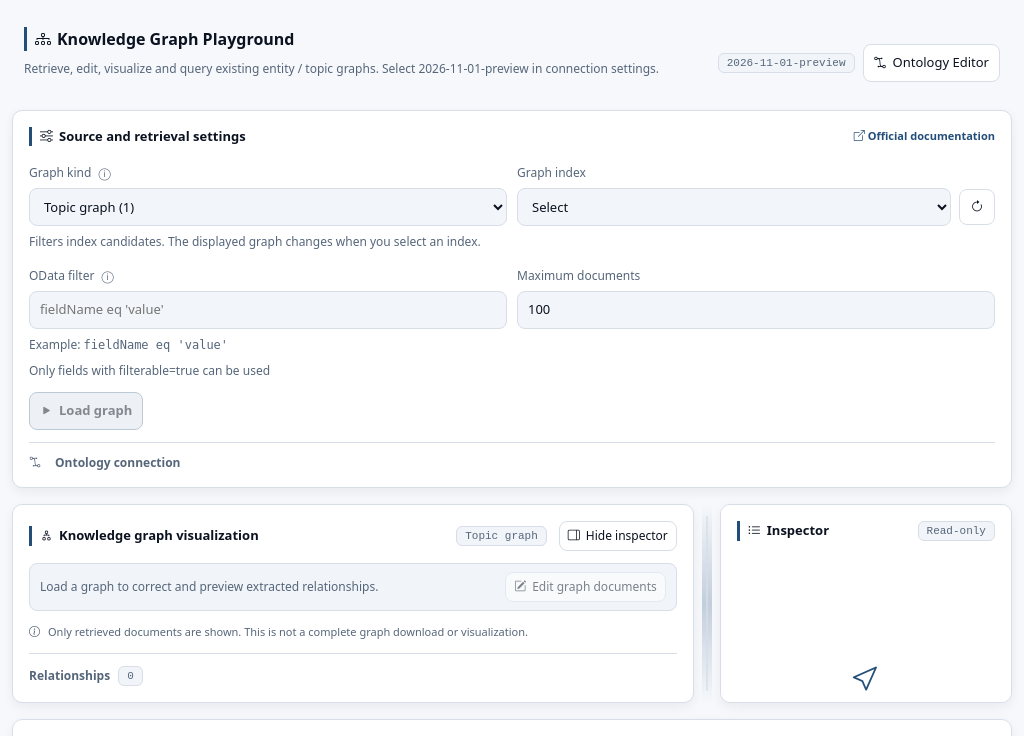
Scenario: KnowledgeGraphPlayground controls › shows retrieved topic titles immediately, allows a custom title predicate and excludes relationship rows
Select "graph-a" in the dropdown named "Graph index" at {"x": 734, "y": 207}, box [517,188,951,226]
(page scrolled)
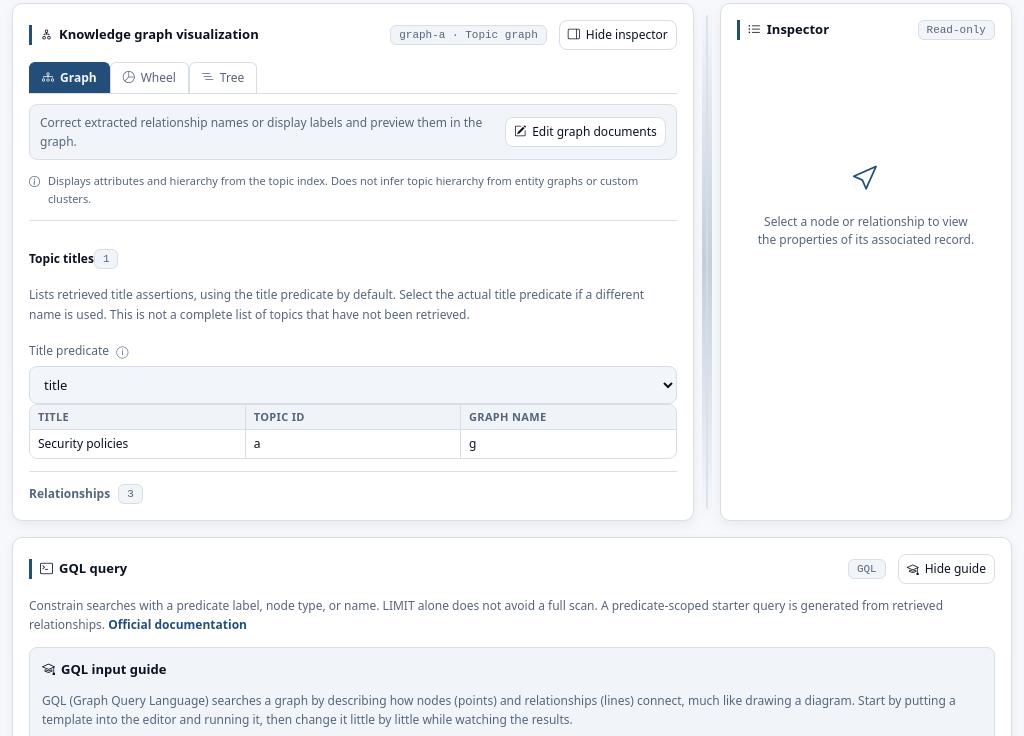
Result: the cell "Security policies" is shown at [30,430,245,458]
Select "topicTitle" in the dropdown labelled "Title predicate" at {"x": 353, "y": 385}, box [29,366,677,404]
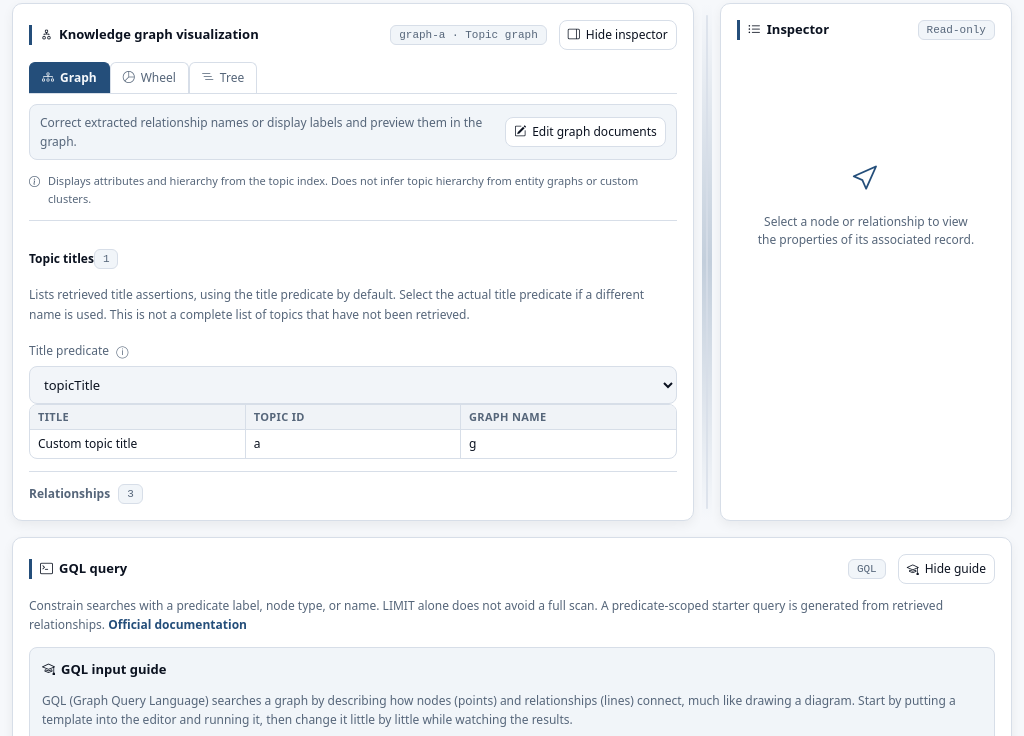
Result: the cell "Custom topic title" is shown at [30,430,245,458]
